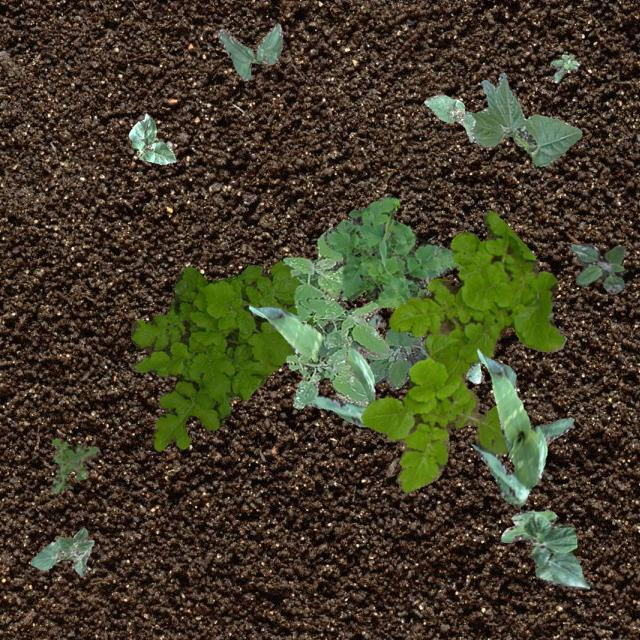crop: (470, 350, 572, 506), (248, 304, 378, 426), (464, 72, 580, 166), (500, 508, 590, 588), (218, 22, 282, 80), (29, 528, 92, 576), (422, 94, 474, 142), (128, 112, 174, 164)
weed: (360, 208, 566, 492), (128, 260, 312, 450), (282, 225, 388, 408), (322, 195, 458, 308), (366, 327, 426, 388), (570, 244, 624, 292), (51, 437, 98, 492), (550, 54, 578, 82), (463, 360, 482, 382)
